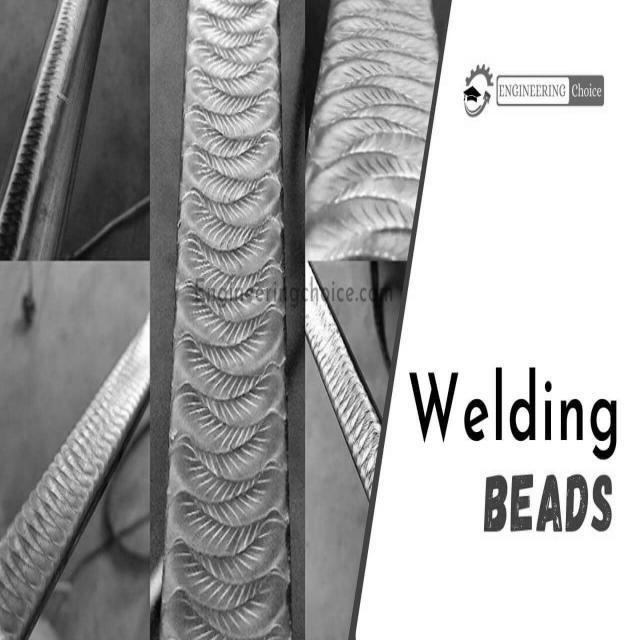Good Welding: (164, 4, 290, 638), (0, 384, 113, 636), (320, 2, 407, 257), (0, 96, 34, 258), (38, 7, 76, 149)
